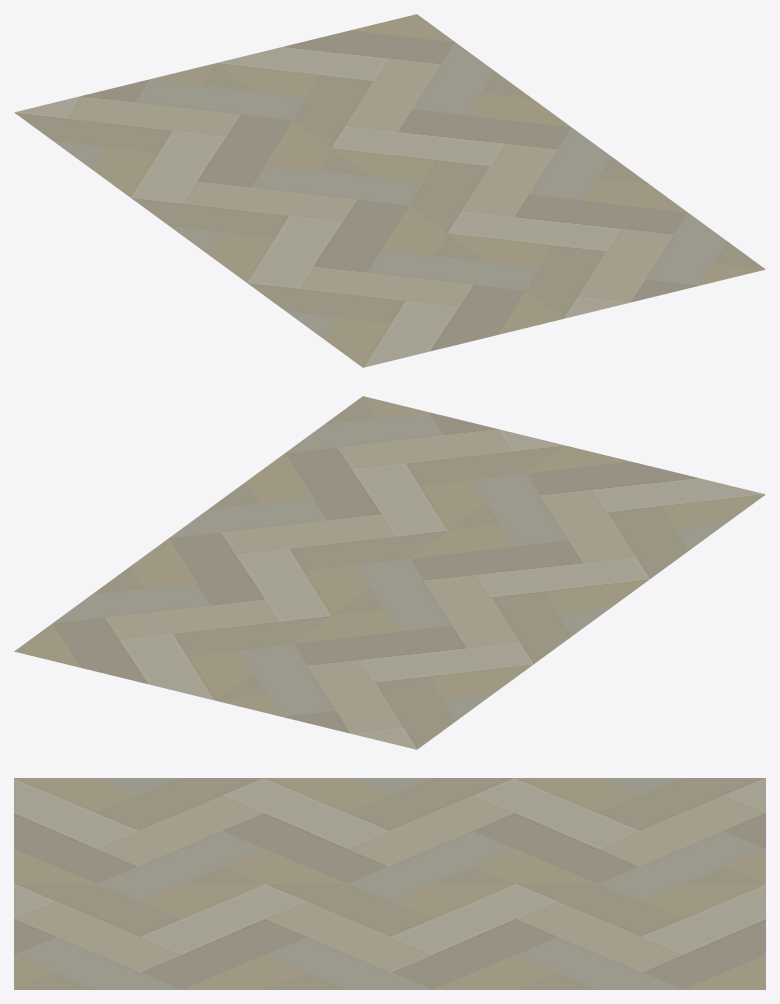
File: Floor_3x2.fbx
3 renders of one model, top to bottom at view 1: azimuth 30°, elevation 25°; view 2: azimuth 150°, elevation 25°; view 3: azimuth 270°, elevation 25°, orthographic. The views are drawn at different scales.
Parts seen in each view (by area): view 1: pPlane8; view 2: pPlane8; view 3: pPlane8.
Part boxes in pixels (x1,y1,x2,y2): pPlane8: [14, 14, 765, 367]; pPlane8: [14, 396, 765, 749]; pPlane8: [14, 778, 765, 989].
Size of the model in its own units: 2 by 6.28e-16 by 3.
Materials: 1 (1 with a texture image).
